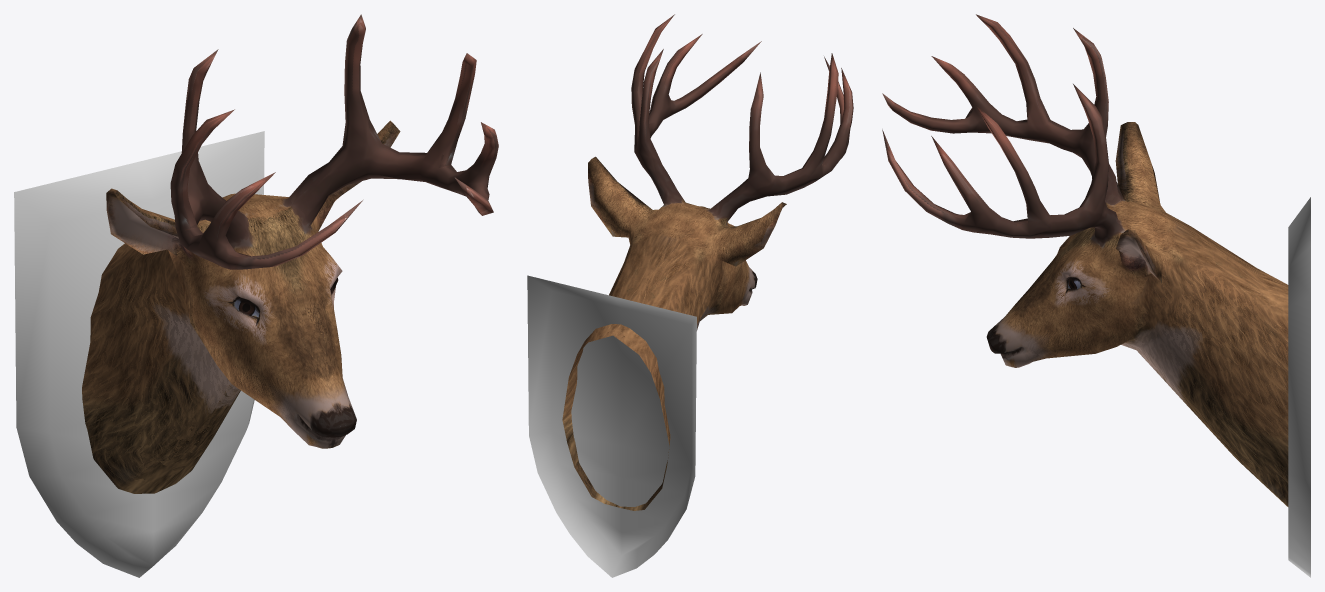
Rendered from DeerTrophy.fbx.
3 renders of one model, left to right at view 1: azimuth 30°, elevation 25°; view 2: azimuth 150°, elevation 25°; view 3: azimuth 270°, elevation 25°, orthographic. The views are drawn at different scales.
Visible parts, largest first — view 1: Deerhead_LOD0; view 2: Deerhead_LOD0; view 3: Deerhead_LOD0.
Part boxes in pixels (x1,y1,x2,y2): Deerhead_LOD0: (14, 14, 498, 577); Deerhead_LOD0: (527, 14, 853, 577); Deerhead_LOD0: (882, 14, 1310, 577).
Size of what is drawn, in the model's own units: 169 by 360 by 268.
